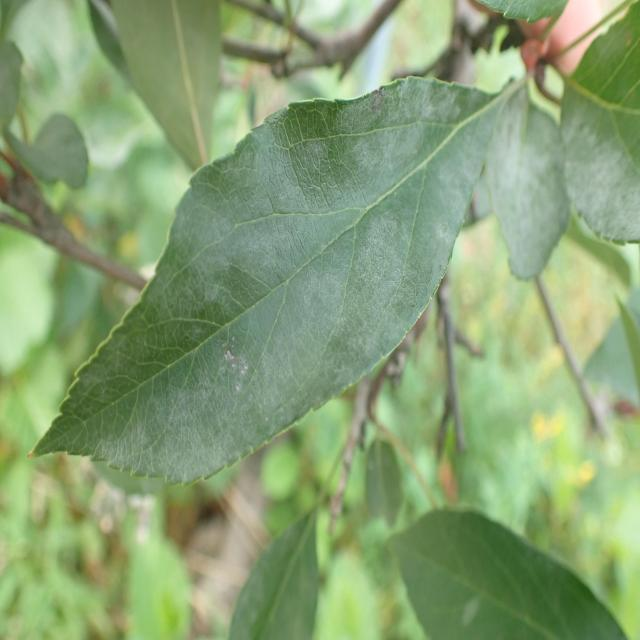Powdery_mildew: (34, 88, 499, 502), (476, 55, 576, 292), (556, 22, 640, 248)
